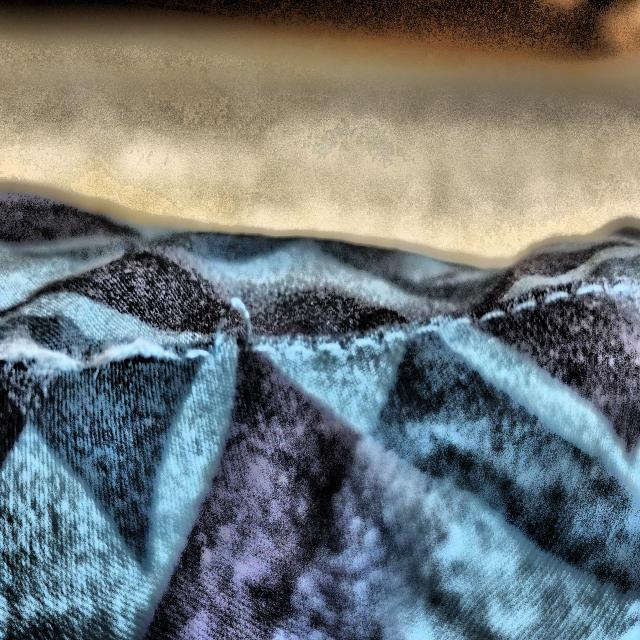gray stitch: (191, 287, 287, 372)
